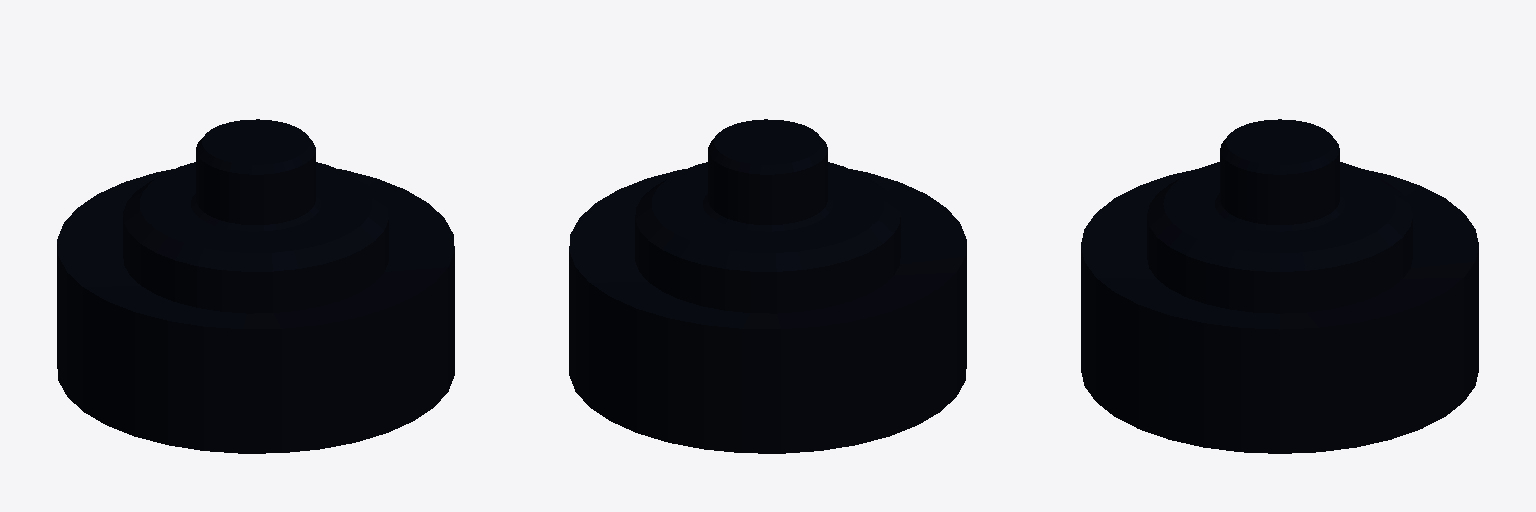
The model's file is joystick_1.obj.
3 renders of one model, left to right at view 1: azimuth 30°, elevation 25°; view 2: azimuth 150°, elevation 25°; view 3: azimuth 270°, elevation 25°, orthographic.
Parts seen in each view (by area): view 1: Cylinder.010; view 2: Cylinder.010; view 3: Cylinder.010.
Boxes of the visible parts, x1,y1,x2,y2 form: Cylinder.010: [57, 119, 454, 453]; Cylinder.010: [569, 119, 966, 453]; Cylinder.010: [1081, 119, 1478, 453].
Size of the model in its own units: 1.37 by 0.8605 by 1.37.